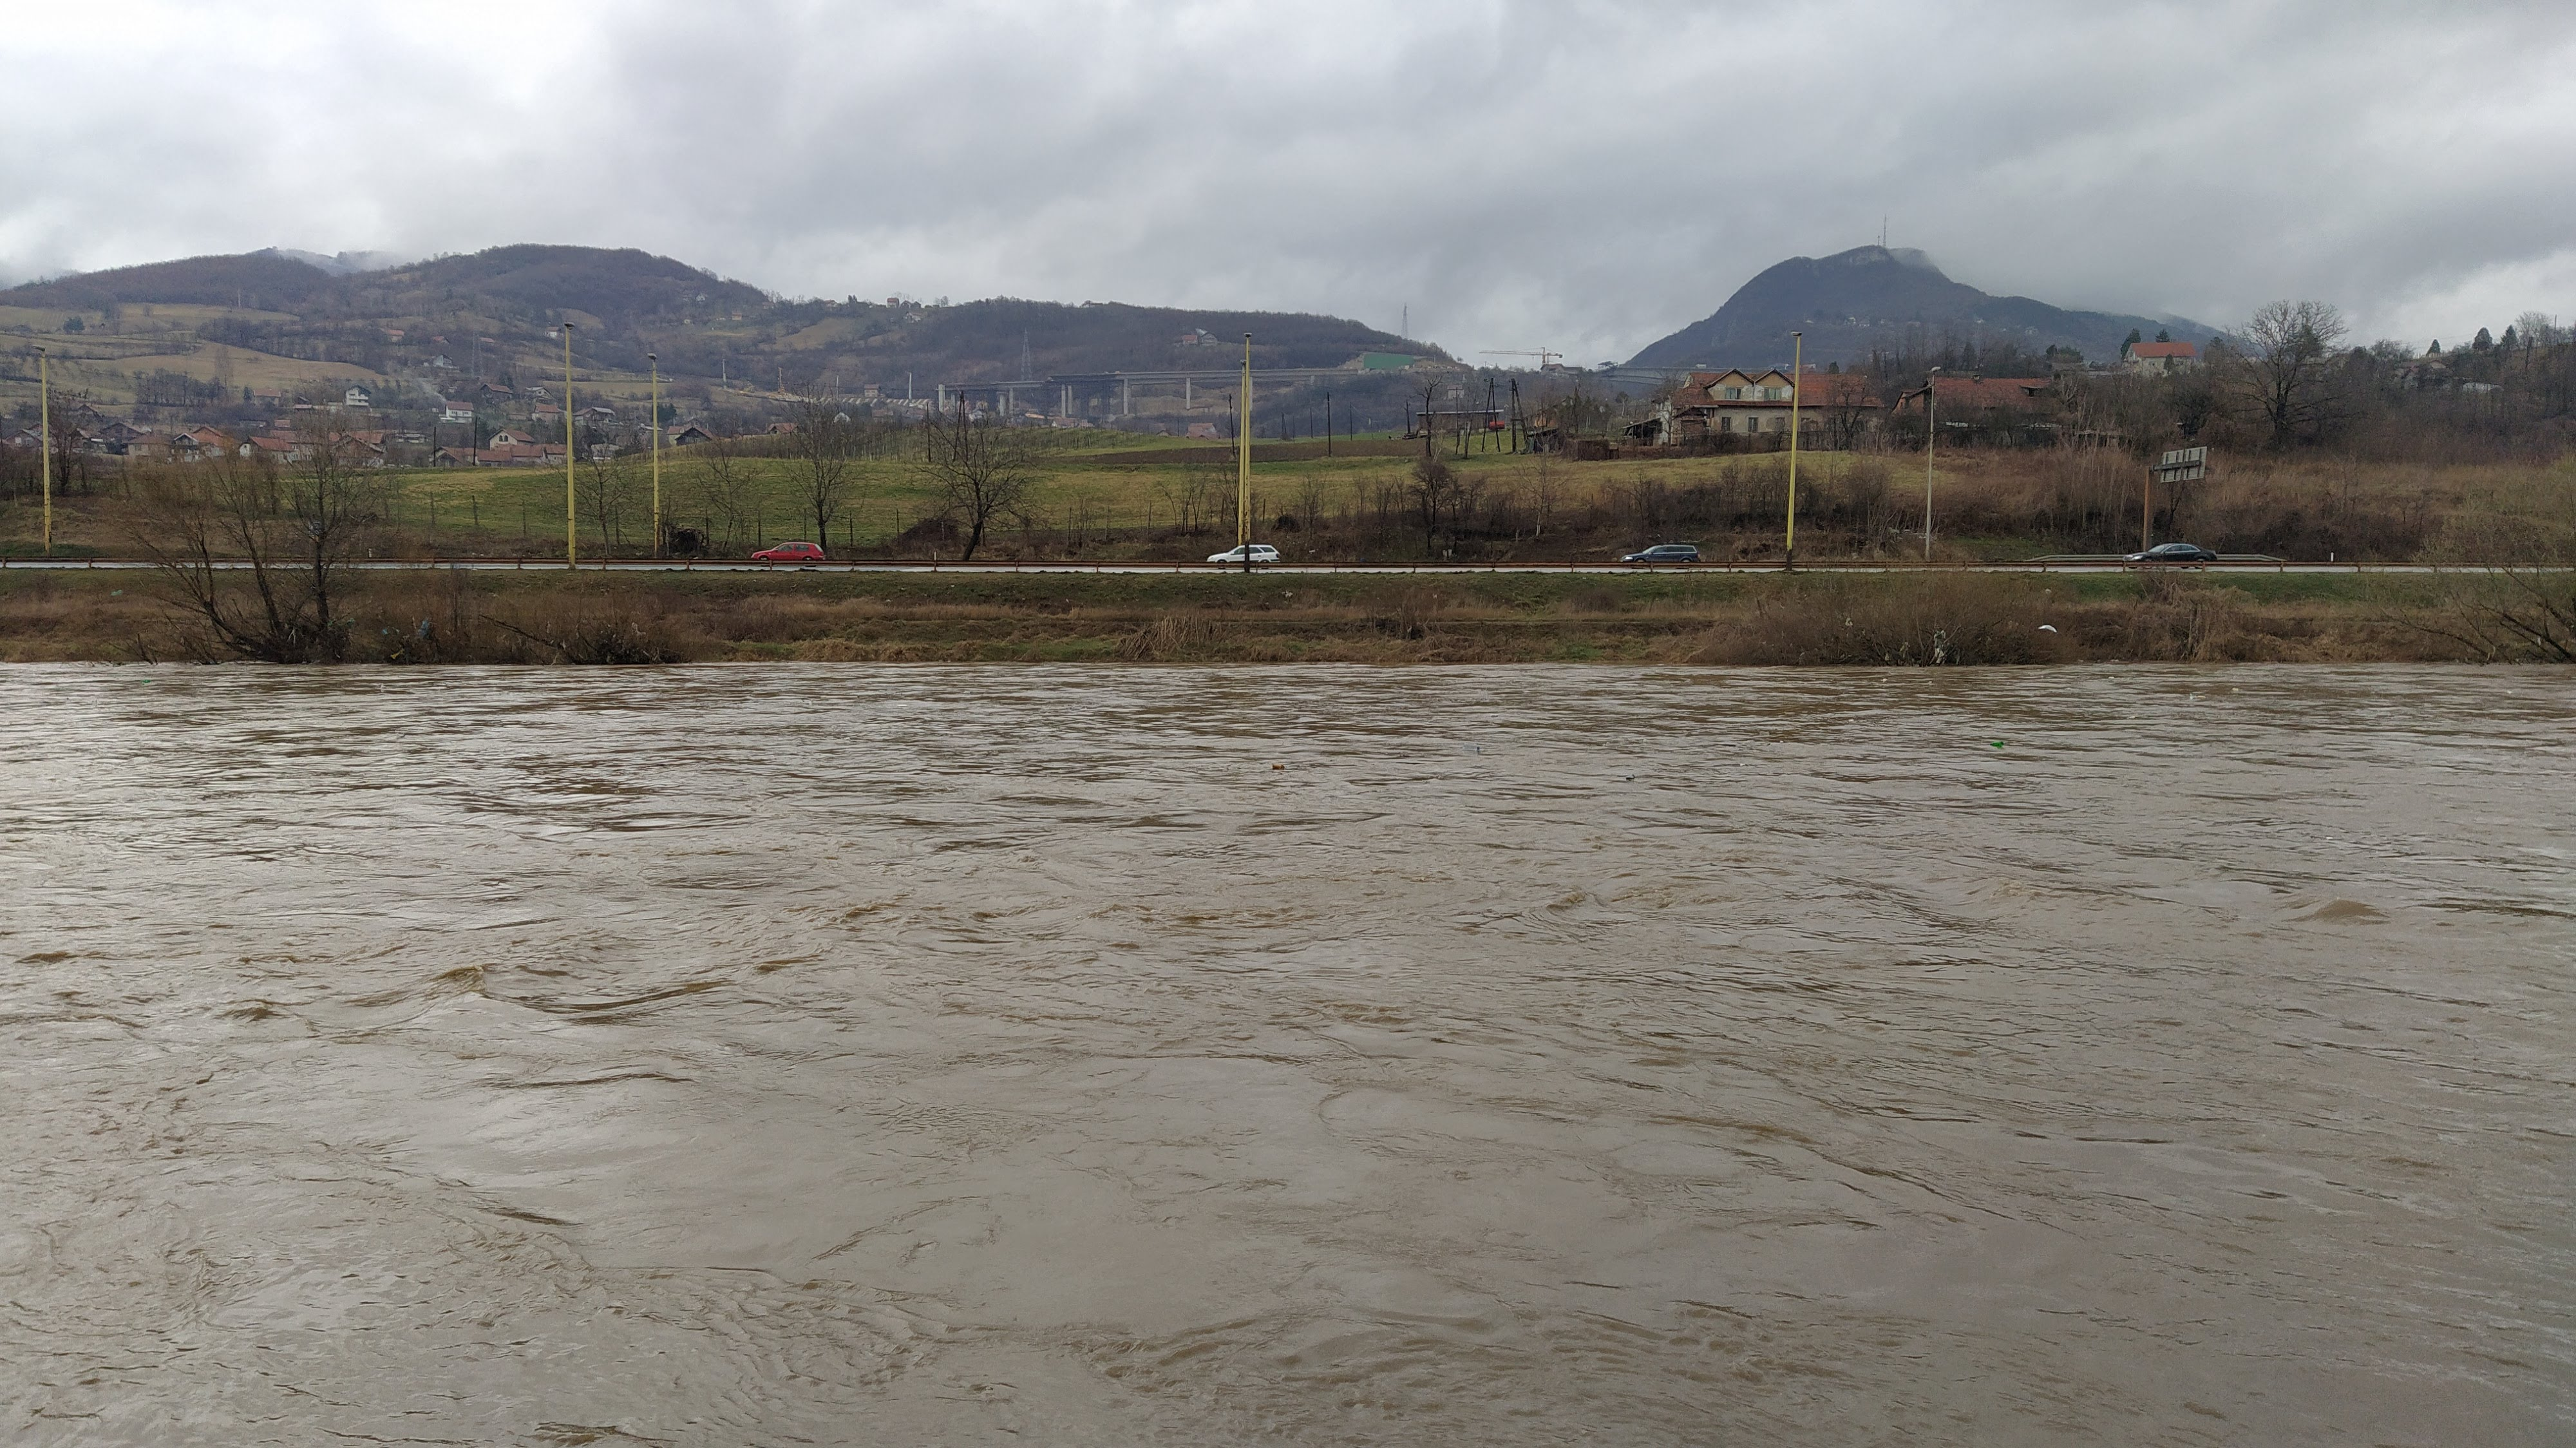Plastic Bottle: (1990, 740, 2005, 747), (1465, 743, 1479, 749), (1272, 763, 1284, 768), (142, 680, 152, 682)
